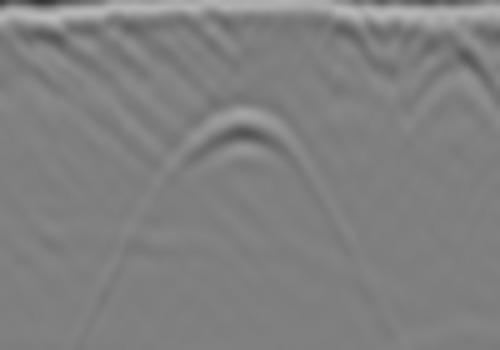hyperbola: (79, 92, 392, 340)
